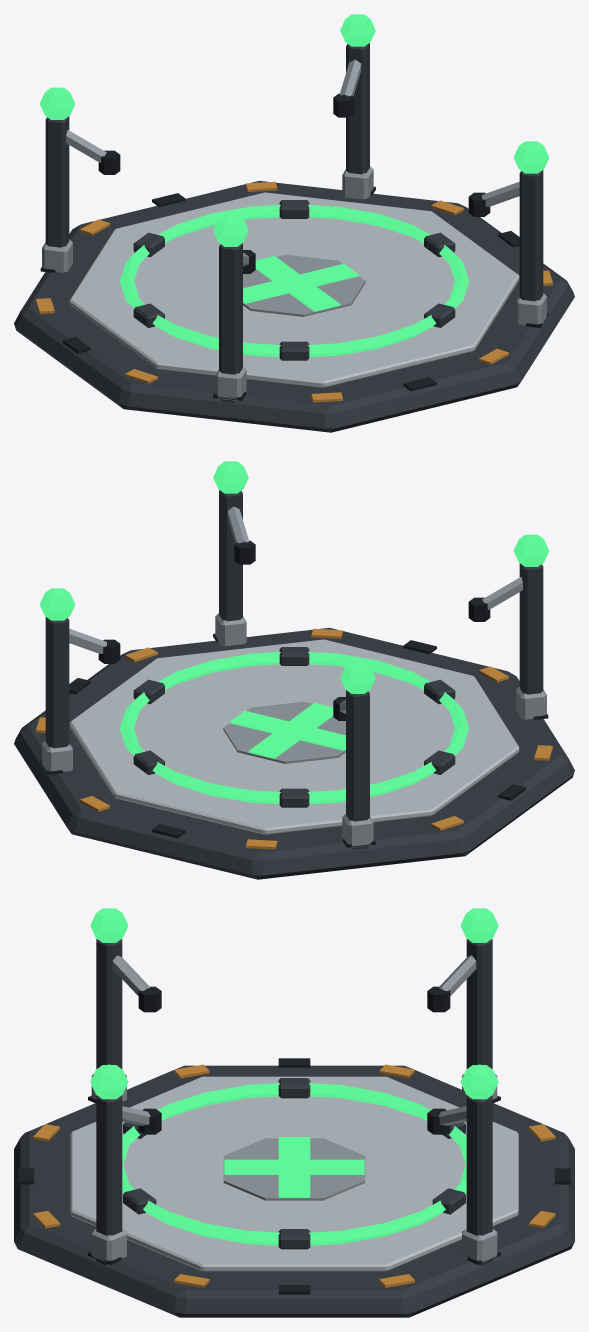
The model's file is exo-repairpad.glb.
3 renders of one model, top to bottom at view 1: azimuth 30°, elevation 25°; view 2: azimuth 150°, elevation 25°; view 3: azimuth 270°, elevation 25°, orthographic. The views are drawn at different scales.
Visible parts, largest first — view 1: body, ring; view 2: body, ring; view 3: body, ring.
Boxes of the visible parts, left/top/right/bottom form: body: left=14, top=14, right=574, bottom=432; ring: left=120, top=200, right=468, bottom=360; body: left=14, top=461, right=574, bottom=879; ring: left=120, top=647, right=468, bottom=807; body: left=14, top=908, right=574, bottom=1317; ring: left=122, top=1078, right=466, bottom=1249.
Size of the model in its own units: 8.79 by 3.7 by 8.79.
